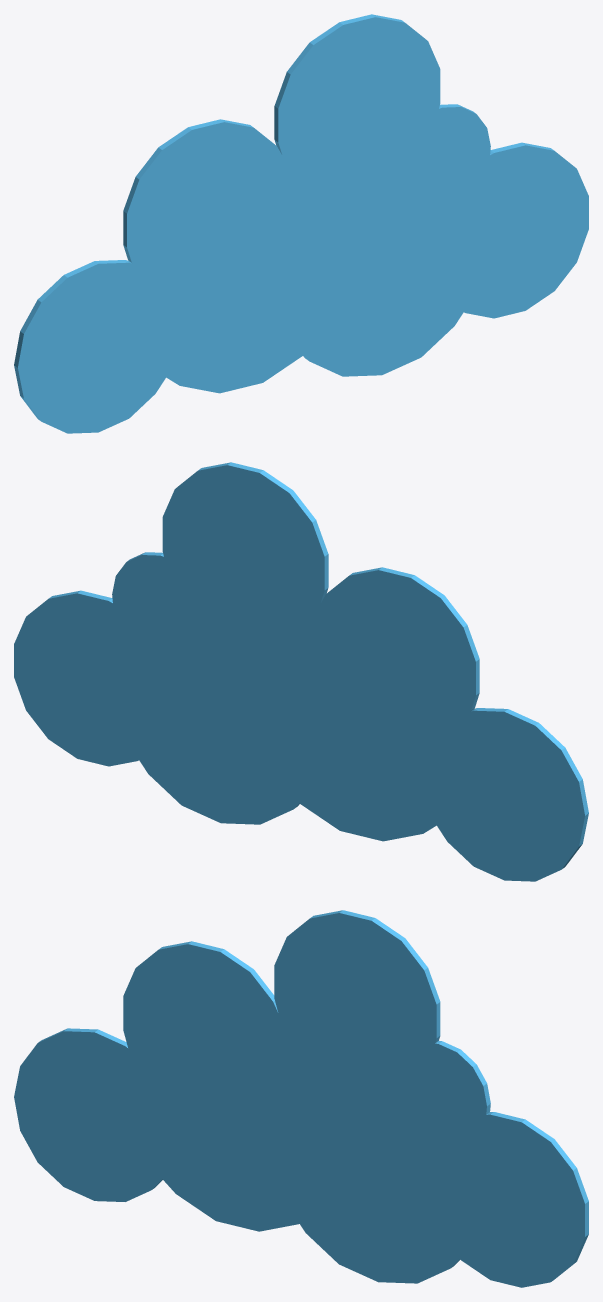
Rendered from SM_sticker_01.fbx.
The picture shows the model from 3 angles, top to bottom: view 1: azimuth 30°, elevation 25°; view 2: azimuth 150°, elevation 25°; view 3: azimuth 330°, elevation 25°; orthographic projection.
Parts seen in each view (by area): view 1: sticker_01; view 2: sticker_01; view 3: sticker_01.
Part boxes in pixels (<box>): sticker_01: <box>14,14,588,433</box>; sticker_01: <box>14,462,588,881</box>; sticker_01: <box>14,910,588,1287</box>.
Size of the model in its own units: 199 by 120 by 2.32.
